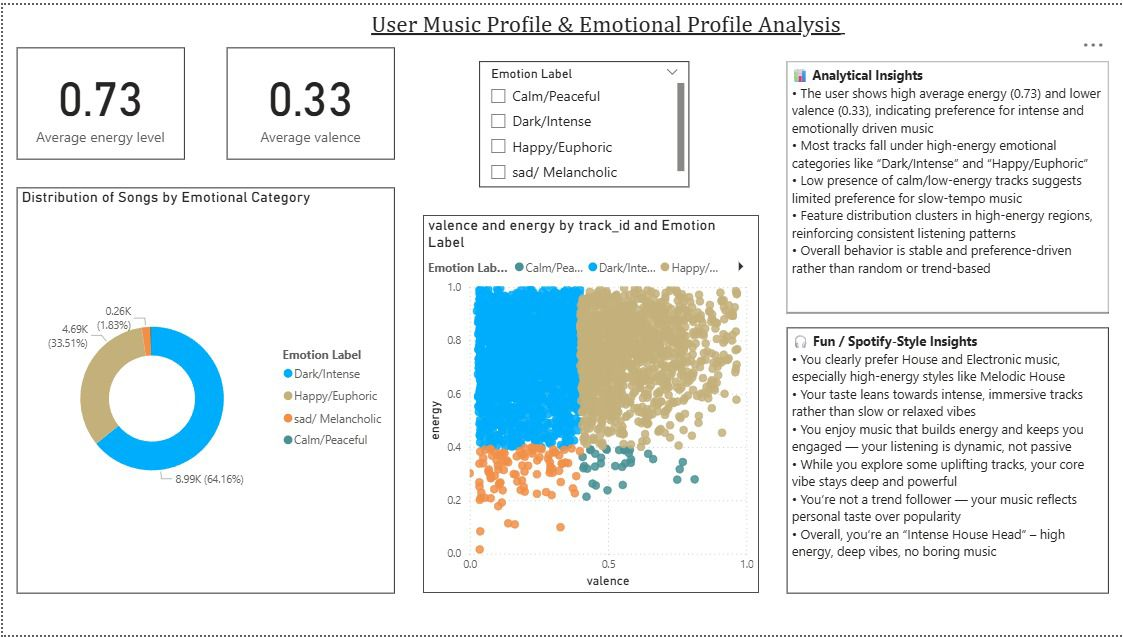

Layout of this report page (visuals, bound fields, positions):
{"tool":"powerbi","page":{"name":"User Music Profile & Emotional Profile Analysis ","canvas":[1280,720],"ordinal":0},"visuals":[{"type":"donutChart","title":"Distribution of Songs by Emotional Category ","fields":{"Y":["CountNonNull(emotionanalysis.track_id)"],"Category":["emotionanalysis.Emotion Label"]},"box":[16,208,432,464],"z":0},{"type":"card","fields":{"Values":["Avg(emotionanalysis.energy)"]},"box":[16,48,192,128],"z":1000},{"type":"card","fields":{"Values":["Avg(emotionanalysis.valence)"]},"box":[256,48,192,128],"z":2000},{"type":"scatterChart","fields":{"X":["Avg(emotionanalysis.valence)"],"Y":["Avg(emotionanalysis.energy)"],"Series":["emotionanalysis.Emotion Label"],"Category":["emotionanalysis.track_id"]},"box":[480,240,384,432],"z":3000},{"type":"slicer","fields":{"Values":["emotionanalysis.Emotion Label"]},"box":[544,64,240,144],"z":4000},{"type":"textbox","box":[416,0,640,48],"z":5000},{"type":"textbox","box":[896,368,368,304],"z":6000},{"type":"textbox","box":[896,64,368,288],"z":7000}]}

Visuals, with their boxes in screenshot pixels (x1, y1, x2, y2), scaled from the page's 1280x720 canvas onto the 1123x637 screenshot:
"Distribution of Songs by Emotional Category " donutChart: {"left": 14, "top": 184, "right": 393, "bottom": 595}
card - Avg(emotionanalysis.energy): {"left": 14, "top": 42, "right": 182, "bottom": 156}
card - Avg(emotionanalysis.valence): {"left": 225, "top": 42, "right": 393, "bottom": 156}
scatterChart - Avg(emotionanalysis.valence) x Avg(emotionanalysis.energy): {"left": 421, "top": 212, "right": 758, "bottom": 595}
slicer - emotionanalysis.Emotion Label: {"left": 477, "top": 57, "right": 688, "bottom": 184}
textbox: {"left": 365, "top": 0, "right": 926, "bottom": 42}
textbox: {"left": 786, "top": 326, "right": 1109, "bottom": 595}
textbox: {"left": 786, "top": 57, "right": 1109, "bottom": 311}
